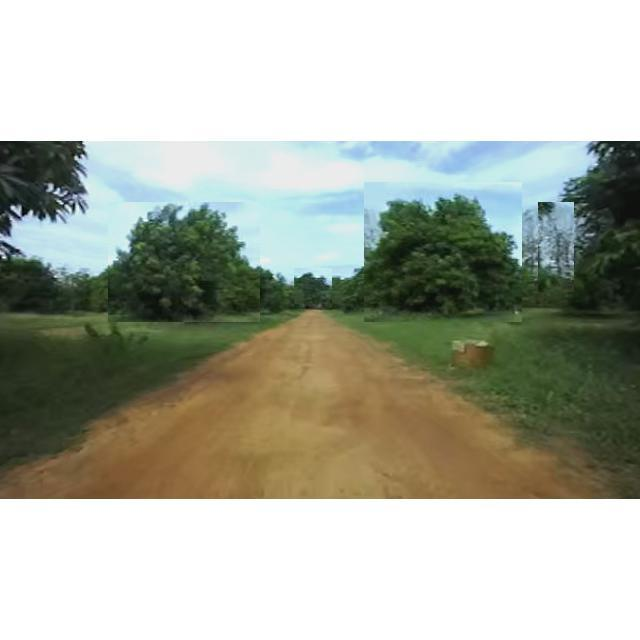direk: (364, 182, 522, 322), (108, 202, 260, 322), (556, 143, 640, 313), (0, 142, 90, 242), (0, 256, 68, 316), (538, 202, 574, 292), (520, 206, 540, 290), (294, 268, 332, 310)
